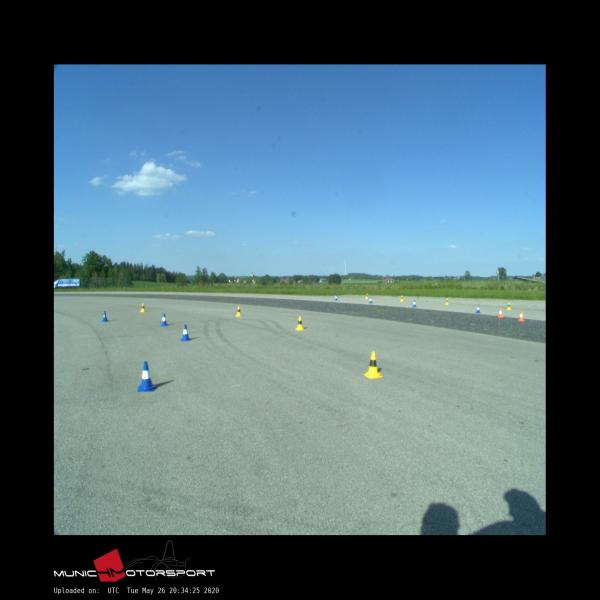blue_cone: (138, 362, 156, 391), (181, 325, 190, 340), (160, 314, 168, 325), (101, 311, 108, 322), (476, 304, 480, 313), (412, 300, 417, 307), (369, 297, 373, 303), (334, 294, 338, 300)
orange_cone: (518, 311, 524, 321), (497, 308, 503, 317)
yellow_cone: (364, 352, 382, 378), (296, 316, 304, 330), (235, 306, 242, 316), (140, 304, 146, 312), (507, 303, 511, 310), (400, 296, 403, 301), (446, 298, 448, 305), (365, 294, 368, 298)
